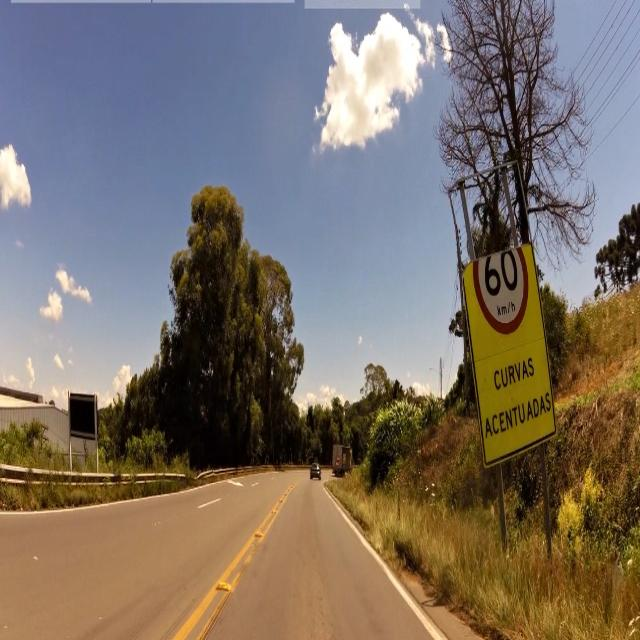R-19: (466, 242, 535, 332)
